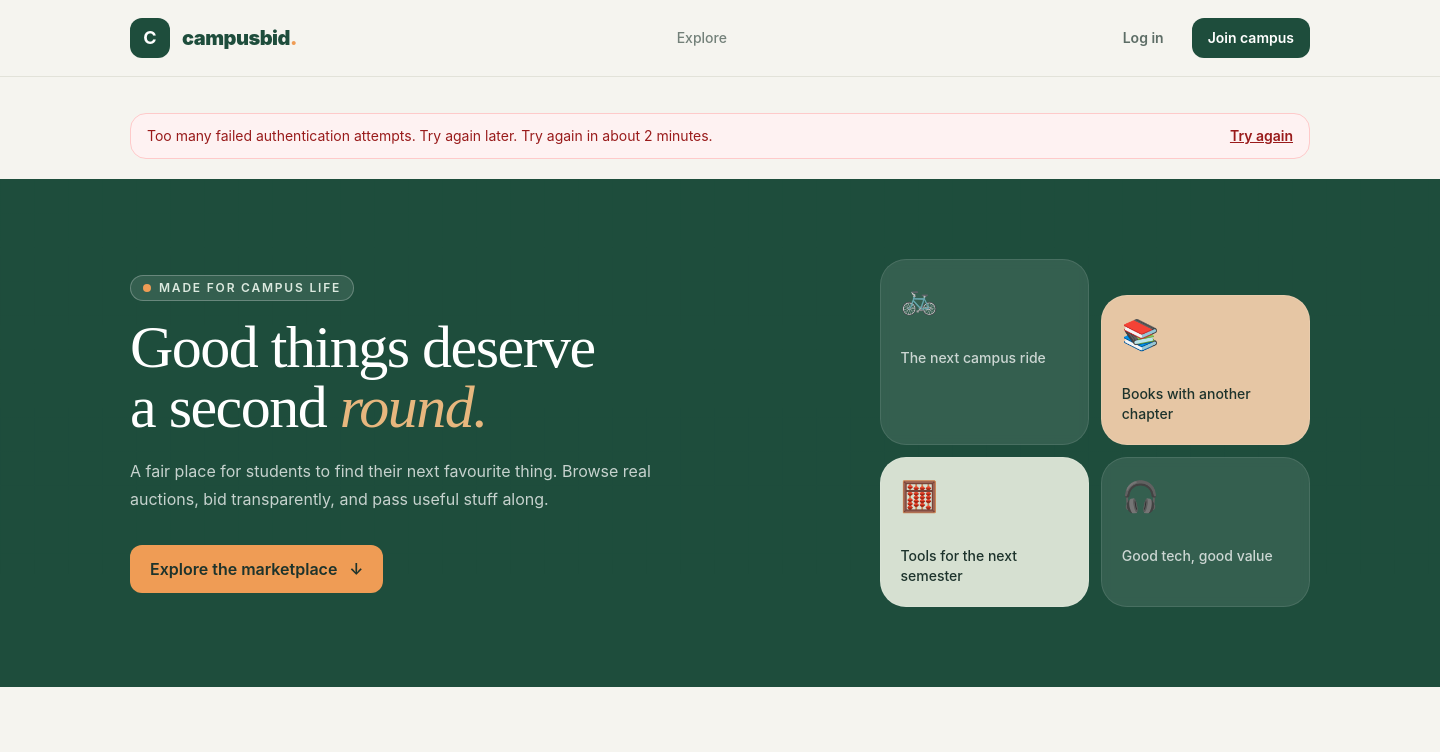
Test: profile navigation and authentication checks › deduplicates Strict Mode auth checks and presents rate limits without retrying
expect the text "Too many failed authentication attempts. Try again later. Try again in about 2 minutes." is shown: met, box [147,127,713,144]
Click the button "Try again".
click(1261, 136)  # box [1230,126,1293,146]
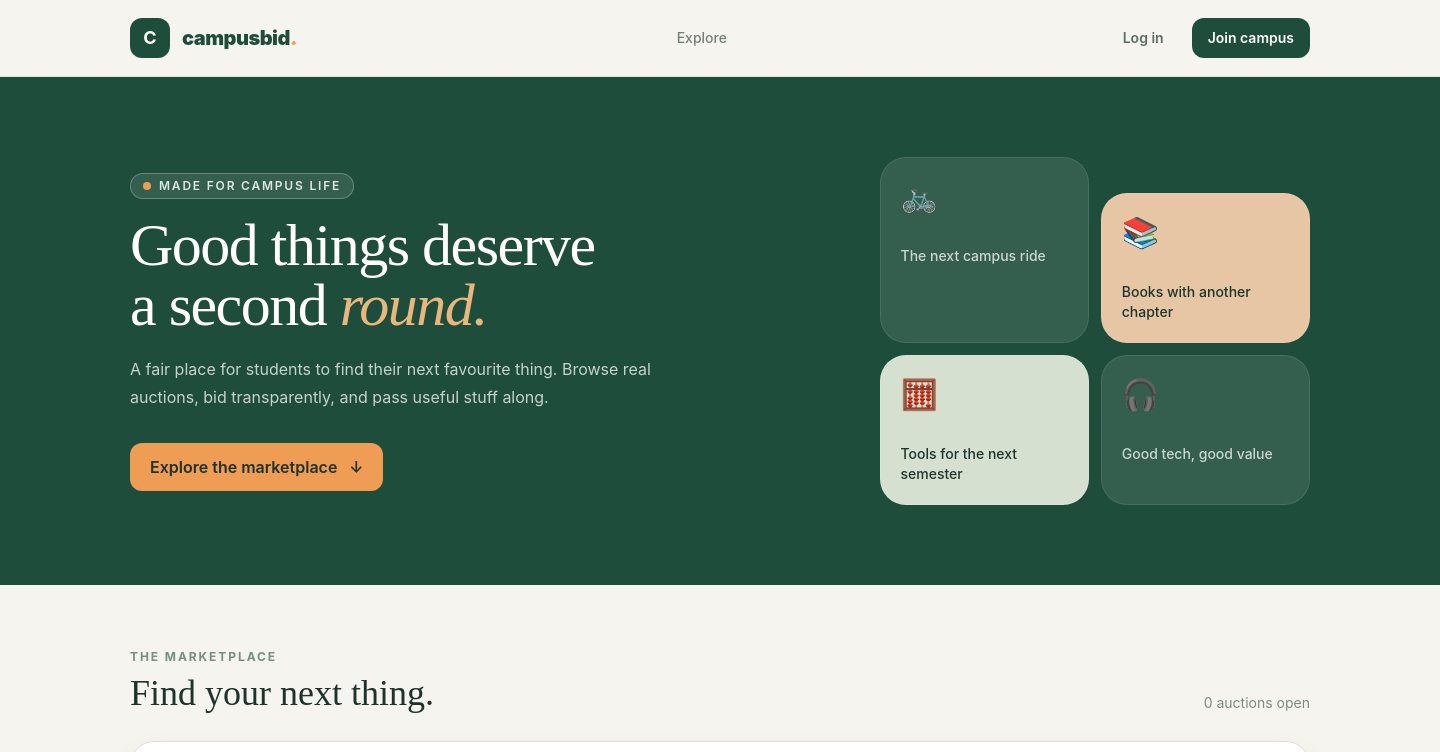
expect the text "Too many failed authentication attempts" is gone: met
